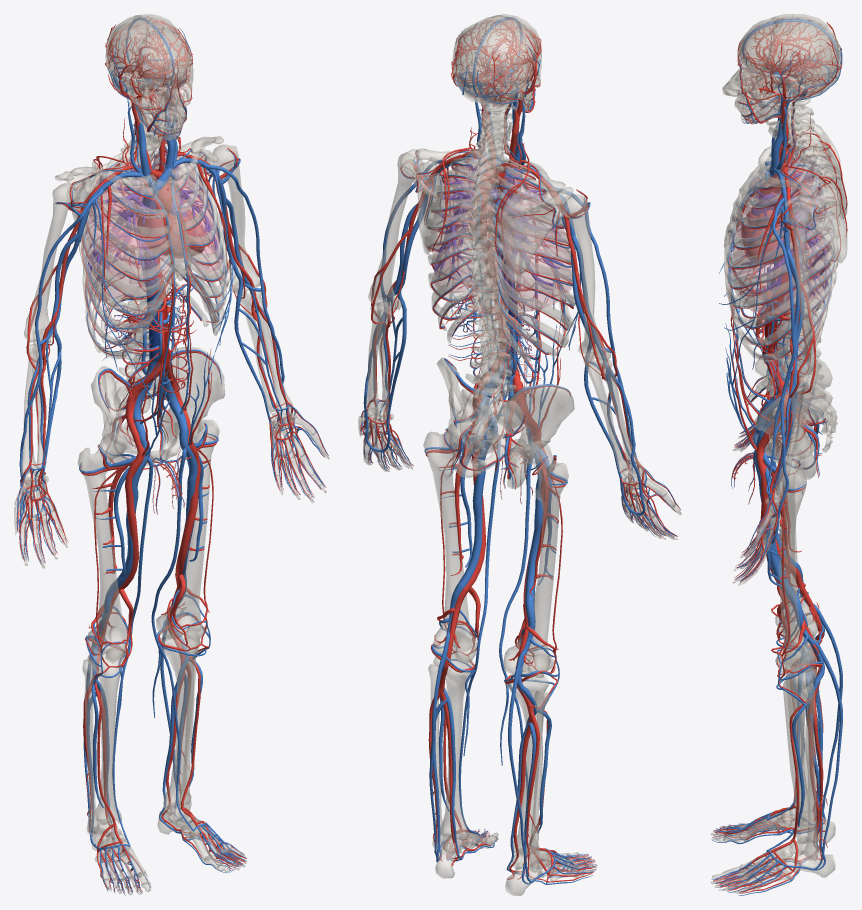
Rendered from circulacion.glb.
3 renders of one model, left to right at view 1: azimuth 30°, elevation 25°; view 2: azimuth 150°, elevation 25°; view 3: azimuth 270°, elevation 25°, orthographic. The views are drawn at different scales.
Parts seen in each view (by area): view 1: esqueleto, venas, arterias, pulmones, arterias-pulmonares, corazon, venas-pulmonares, venas-cavas, aorta; view 2: esqueleto, venas, arterias, pulmones, arterias-pulmonares, aorta, venas-pulmonares; view 3: esqueleto, venas, arterias, pulmones, arterias-pulmonares, aorta, corazon, venas-pulmonares.
Boxes of the visible parts, bbox=[...] form: esqueleto: bbox=[14, 14, 329, 894]; venas: bbox=[17, 17, 328, 895]; arterias: bbox=[16, 17, 328, 892]; pulmones: bbox=[85, 151, 225, 301]; arterias-pulmonares: bbox=[87, 152, 222, 279]; corazon: bbox=[137, 208, 205, 257]; venas-pulmonares: bbox=[89, 157, 219, 258]; venas-cavas: bbox=[142, 192, 159, 361]; aorta: bbox=[151, 169, 172, 363]; esqueleto: bbox=[358, 14, 681, 895]; venas: bbox=[361, 17, 680, 884]; arterias: bbox=[360, 18, 680, 882]; pulmones: bbox=[431, 156, 572, 311]; arterias-pulmonares: bbox=[434, 156, 565, 302]; aorta: bbox=[473, 169, 506, 352]; venas-pulmonares: bbox=[437, 161, 561, 291]; esqueleto: bbox=[710, 14, 847, 893]; venas: bbox=[711, 19, 842, 895]; arterias: bbox=[713, 15, 847, 893]; pulmones: bbox=[730, 147, 830, 313]; arterias-pulmonares: bbox=[737, 151, 827, 299]; aorta: bbox=[759, 174, 812, 354]; corazon: bbox=[741, 207, 790, 263]; venas-pulmonares: bbox=[755, 153, 823, 294].
Size of the model in its own units: 0.6686 by 1.7 by 0.2502.
